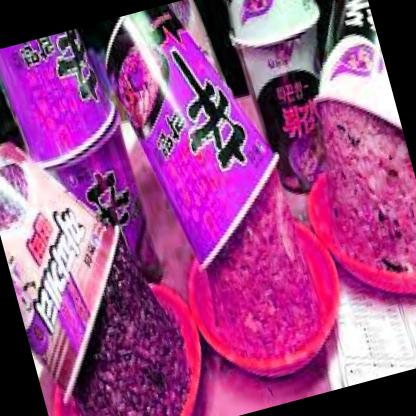Ramen: (95, 0, 299, 280), (0, 128, 159, 407), (23, 109, 174, 315), (230, 18, 361, 202), (276, 0, 407, 170), (0, 22, 128, 168)
